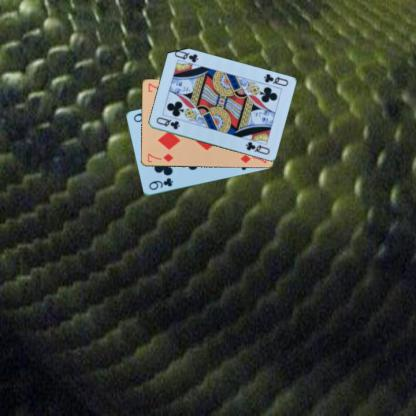7d: (145, 151, 175, 163)
9c: (146, 176, 174, 191)
Qc: (261, 71, 289, 87), (154, 115, 181, 130)
